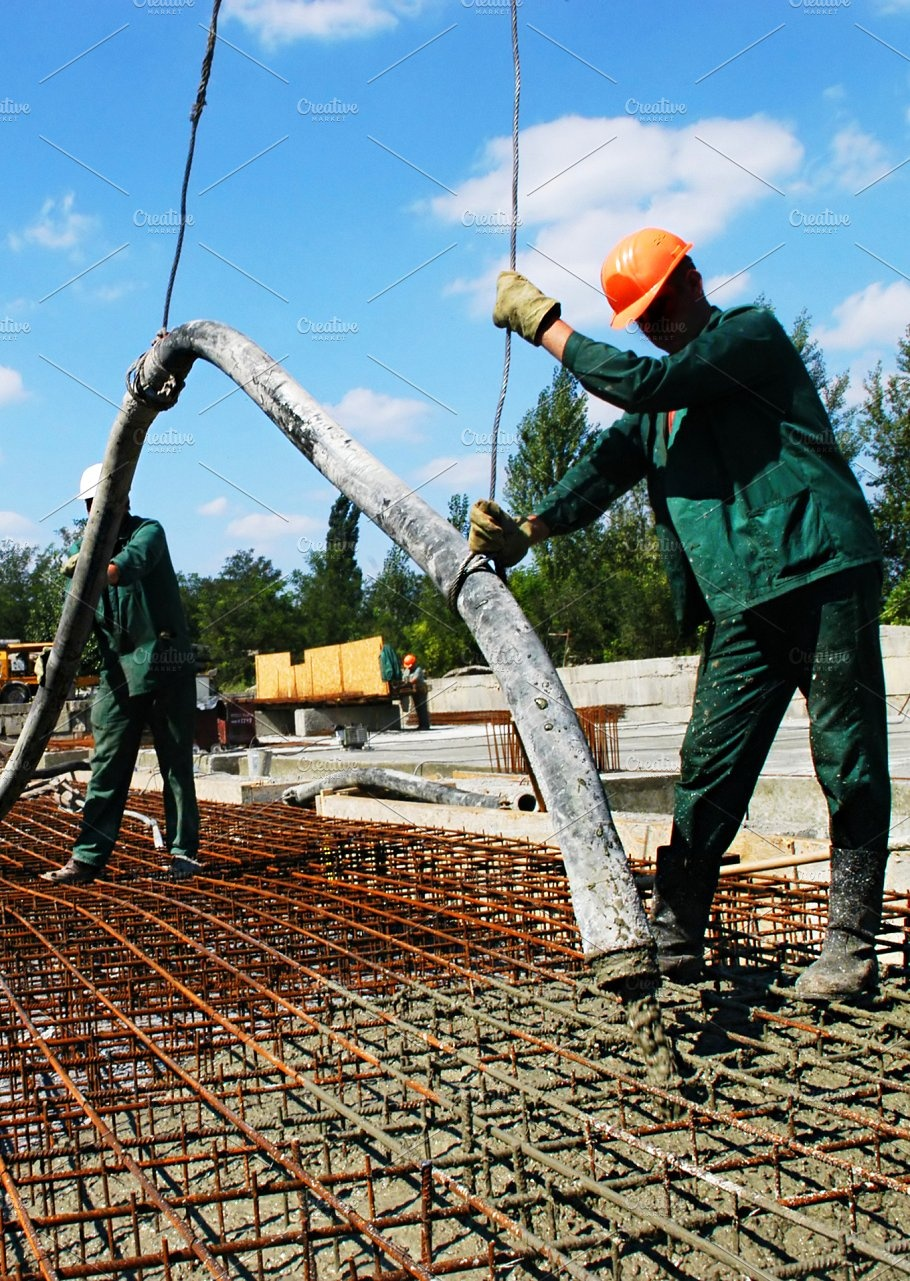red: (598, 224, 704, 352), (402, 654, 416, 670)
white: (80, 460, 126, 518)
